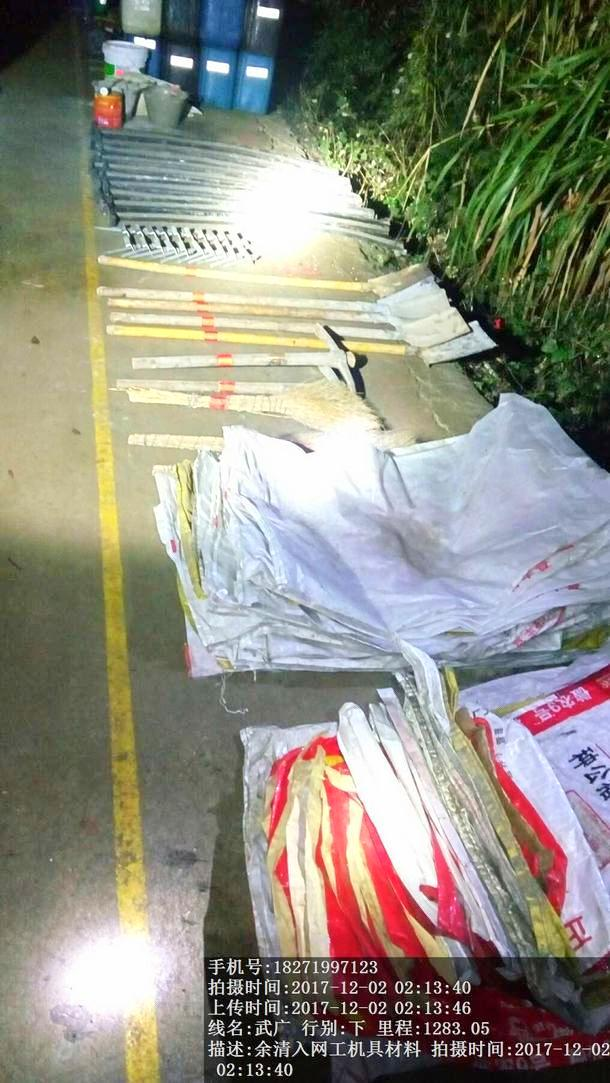BZD: (217, 688, 610, 954), (137, 433, 610, 653)
SB: (122, 384, 395, 433)
TQ: (103, 306, 499, 366)
